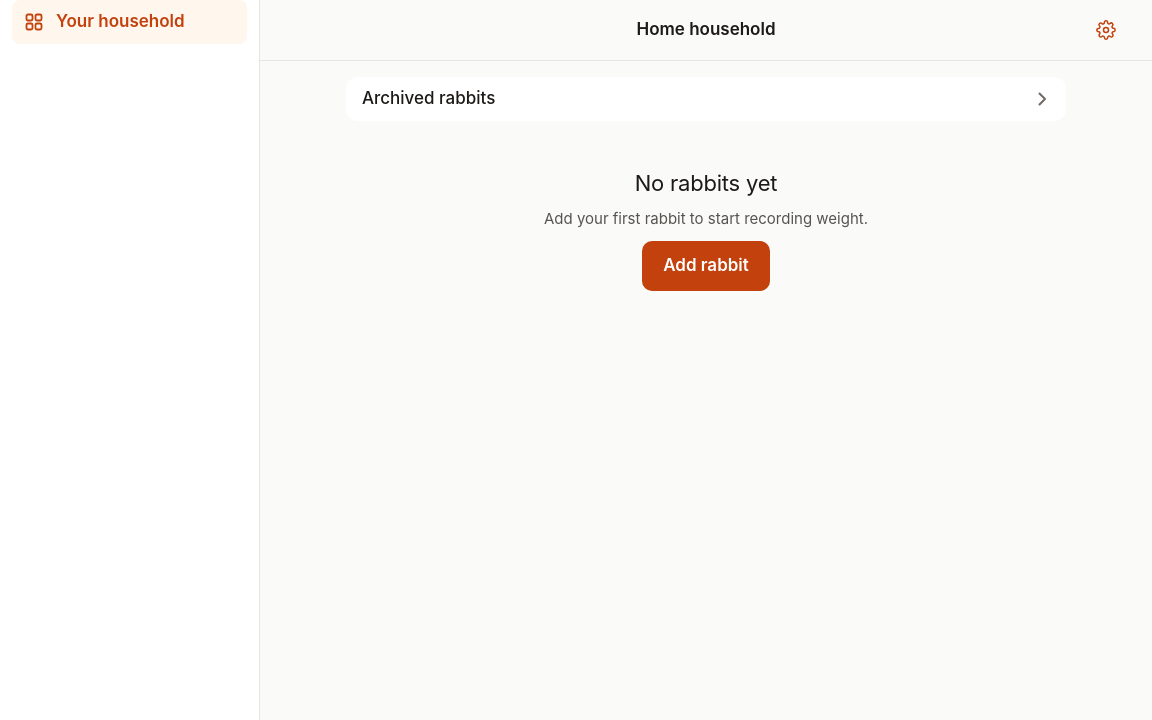
opens the form from the empty state and returns focus on cancel
This screenshot has width=1152, height=720.
expect the element that starts with "Home household" is shown: met, box [260,0,1151,291]
expect the heading "No rabbits yet" is shown: met, box [635,169,777,197]
Click the button "Add rabbit" at (706, 266), box [642,241,770,291]
(page scrolled)
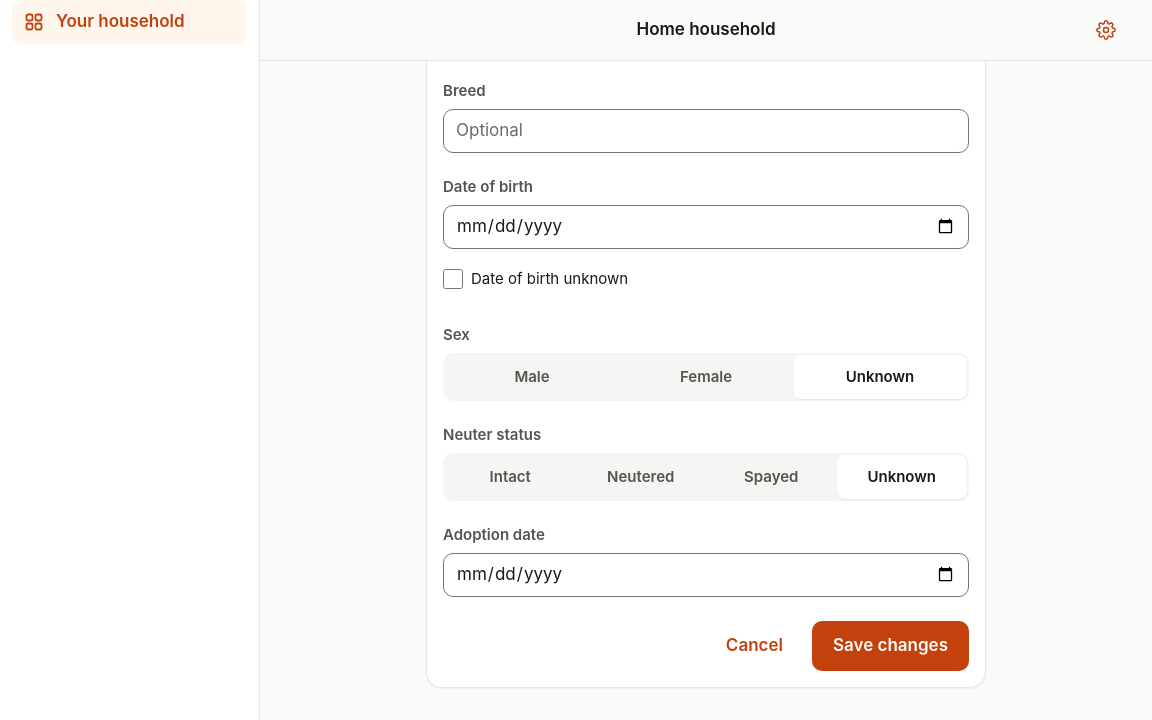
Click the button "Cancel" at (754, 646), box [705,621,804,671]
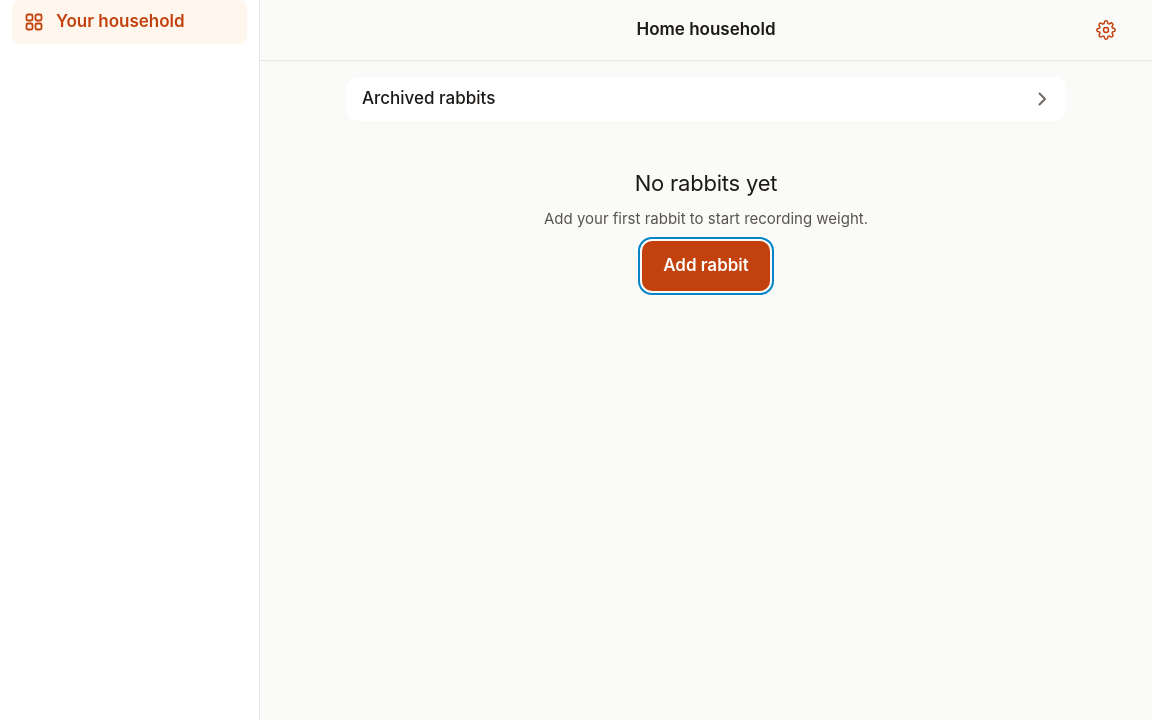
expect the heading "No rabbits yet" is shown: met, box [635,169,777,197]
